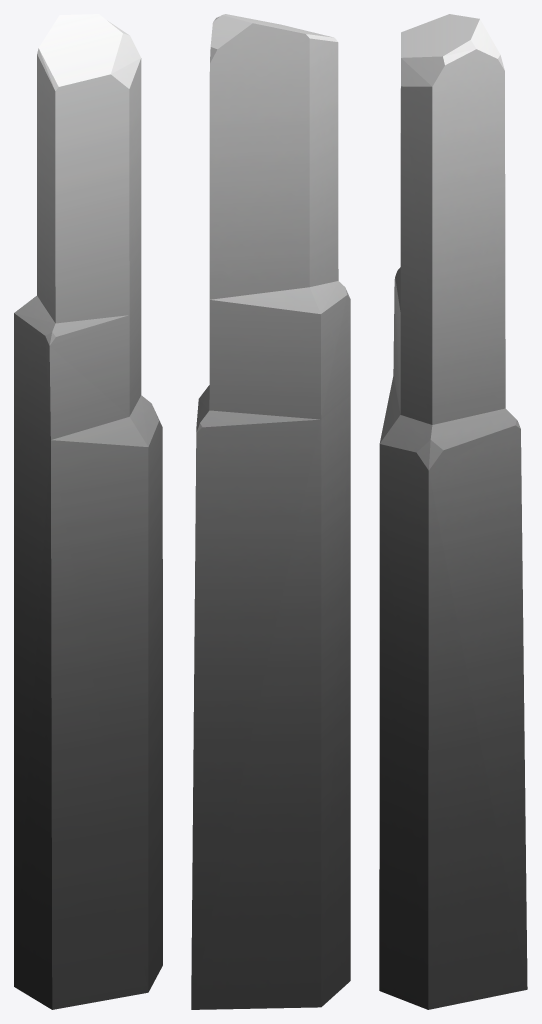
The model's file is CrystalCube_C.fbx.
3 views of the same model, side by side, from view 1: azimuth 30°, elevation 25°; view 2: azimuth 150°, elevation 25°; view 3: azimuth 270°, elevation 25° (orthographic). The views are drawn at different scales.
Parts seen in each view (by area): view 1: CrystalCube_C; view 2: CrystalCube_C; view 3: CrystalCube_C.
Part boxes in pixels (x1,y1,x2,y2): CrystalCube_C: (14, 14, 162, 1009); CrystalCube_C: (191, 14, 350, 1009); CrystalCube_C: (379, 14, 527, 1009).
Bounding box in the file's own units: 67.17 × 456 × 64.2.
1 material, 1 textured.
